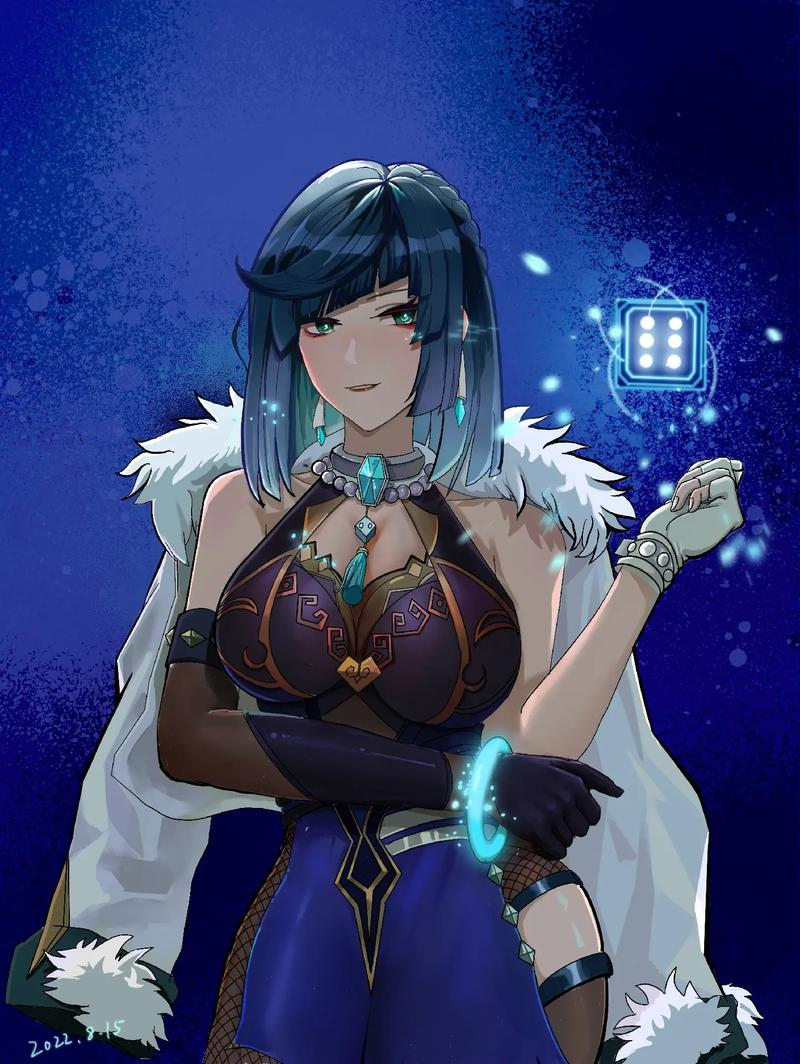夜兰: (152, 154, 743, 1060)
